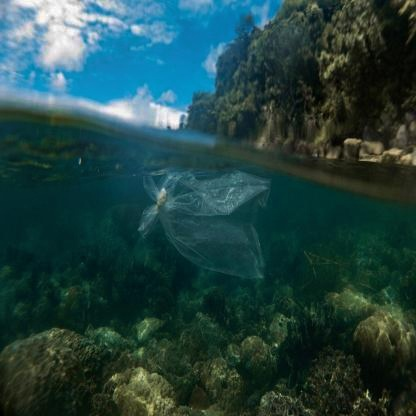pbag: (132, 155, 278, 286)
